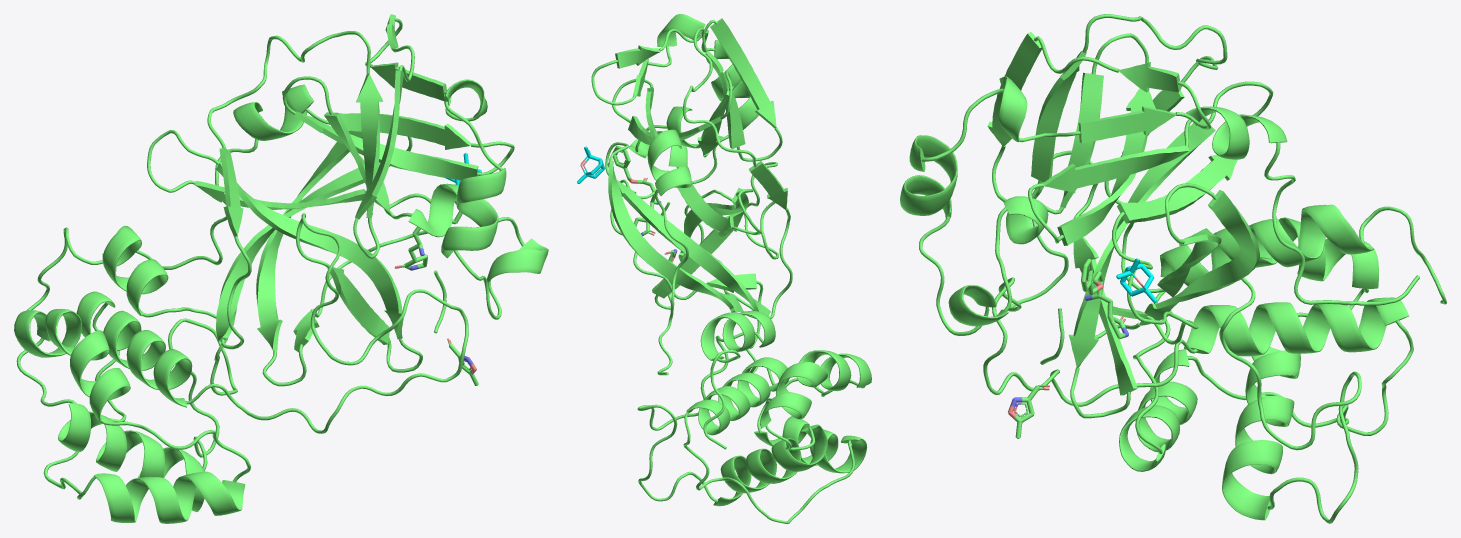
The model's file is zmcvdnjf7gnp6tvm.gltf.
3 renders of one model, left to right at view 1: azimuth 30°, elevation 25°; view 2: azimuth 150°, elevation 25°; view 3: azimuth 270°, elevation 25°, orthographic. The views are drawn at different scales.
Visible parts, largest first — view 1: node-geom69, node-geom70, node-geom71; view 2: node-geom69, node-geom70, node-geom71; view 3: node-geom69, node-geom70, node-geom71.
Boxes of the visible parts, x1,y1,x2,y2 form: node-geom69: (136, 14, 548, 386); node-geom70: (14, 213, 468, 523); node-geom71: (26, 225, 446, 333); node-geom69: (591, 14, 792, 375); node-geom70: (637, 162, 871, 523); node-geom71: (660, 201, 771, 449); node-geom69: (900, 14, 1419, 367); node-geom70: (983, 150, 1413, 523); node-geom71: (1040, 204, 1446, 364).
Size of the model in its own units: 45.96 by 60 by 53.36.
